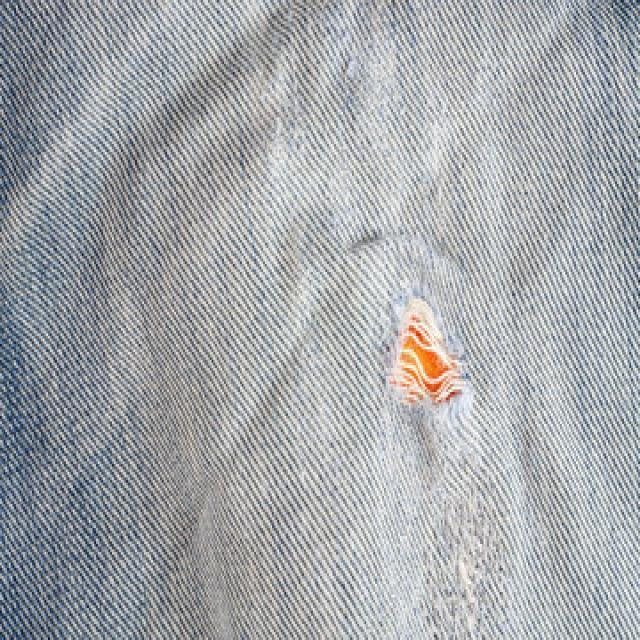Hole: (390, 298, 465, 404)
